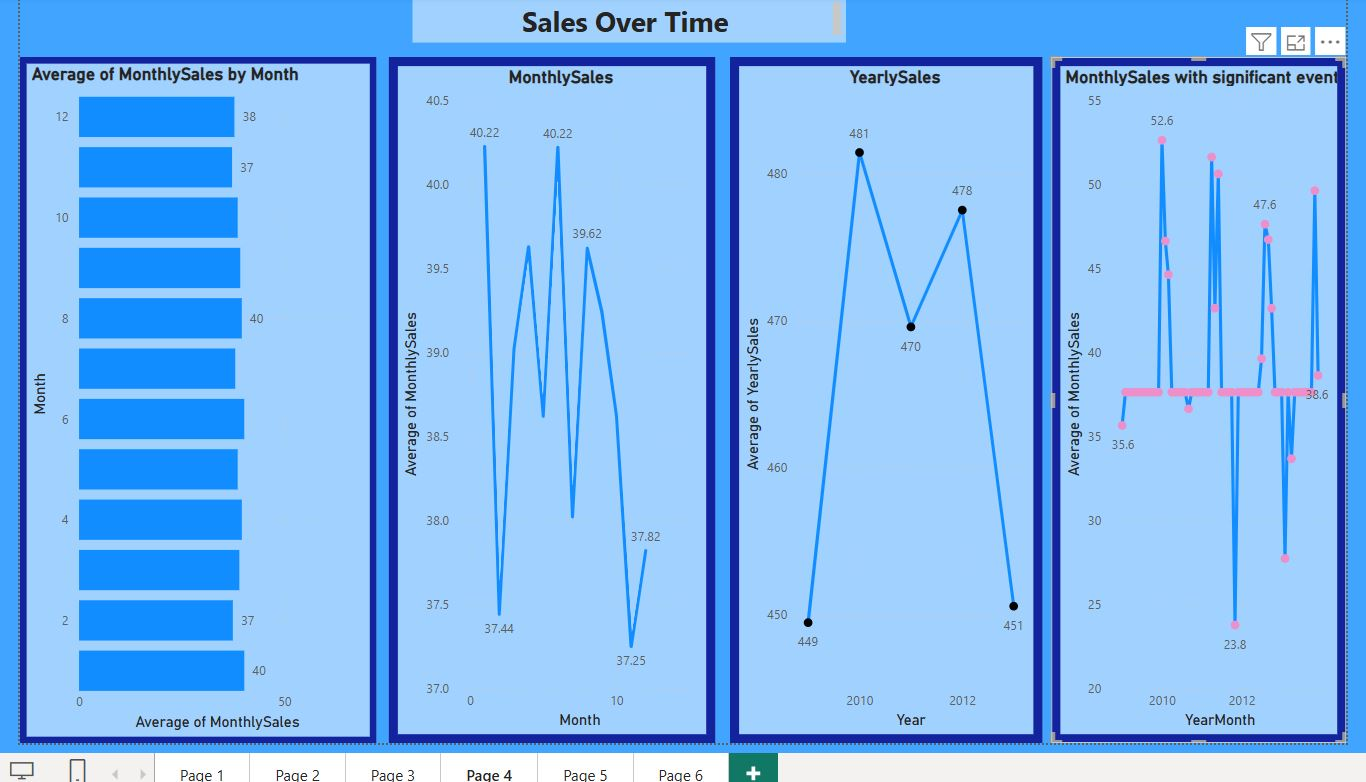

The dashboard page shown, as its layout file describes it:
{"tool":"powerbi","page":{"name":"Page 4","canvas":[1280,720],"ordinal":3},"visuals":[{"type":"lineChart","title":"YearlySales ","fields":{"Category":["yearlySales.Year"],"Y":["Avg(yearlySales.YearlySales)"]},"box":[400.5,465.7,377.6,243.7],"z":0},{"type":"lineChart","title":" MonthlySales ","fields":{"Category":["Monthly_saless.Month"],"Y":["Avg(Monthly_saless.MonthlySales)"]},"box":[394.5,158,377.6,250.9],"z":1000},{"type":"clusteredBarChart","fields":{"Category":["seasonal_saless_effects.Month"],"Y":["Avg(seasonal_saless_effects.MonthlySales)"]},"box":[0,158,355.9,250.9],"z":2000},{"type":"textbox","box":[378.8,55.5,418.6,43.4],"z":3000},{"type":"lineChart","title":"MonthlySales with significant events","fields":{"Category":["monthly_sales_with_flagss.YearMonth"],"Y":["Avg(monthly_sales_with_flagss.MonthlySales)"]},"box":[797.5,158,464.5,250.9],"z":4000}]}

Visuals, with their boxes on the page's 1280x720 design canvas (x1, y1, x2, y2). These are canvas units, not pixel positions in the 1366x782 screenshot, which may show the page scaled, cropped or inside an application window:
"YearlySales " lineChart: left=400, top=466, right=778, bottom=709
" MonthlySales " lineChart: left=394, top=158, right=772, bottom=409
clusteredBarChart - seasonal_saless_effects.Month x Avg(seasonal_saless_effects.MonthlySales): left=0, top=158, right=356, bottom=409
textbox: left=379, top=56, right=797, bottom=99
"MonthlySales with significant events" lineChart: left=798, top=158, right=1262, bottom=409
